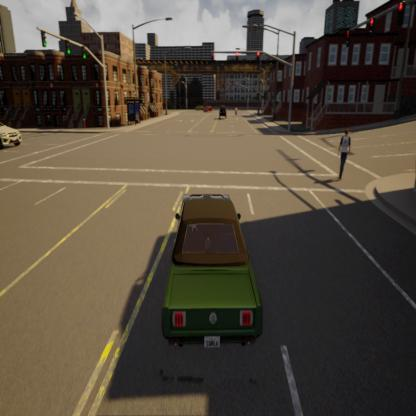Cars: (161, 189, 264, 354), (0, 111, 27, 151), (217, 103, 230, 121), (203, 104, 213, 114)
Pedestrian: (332, 126, 352, 184)
